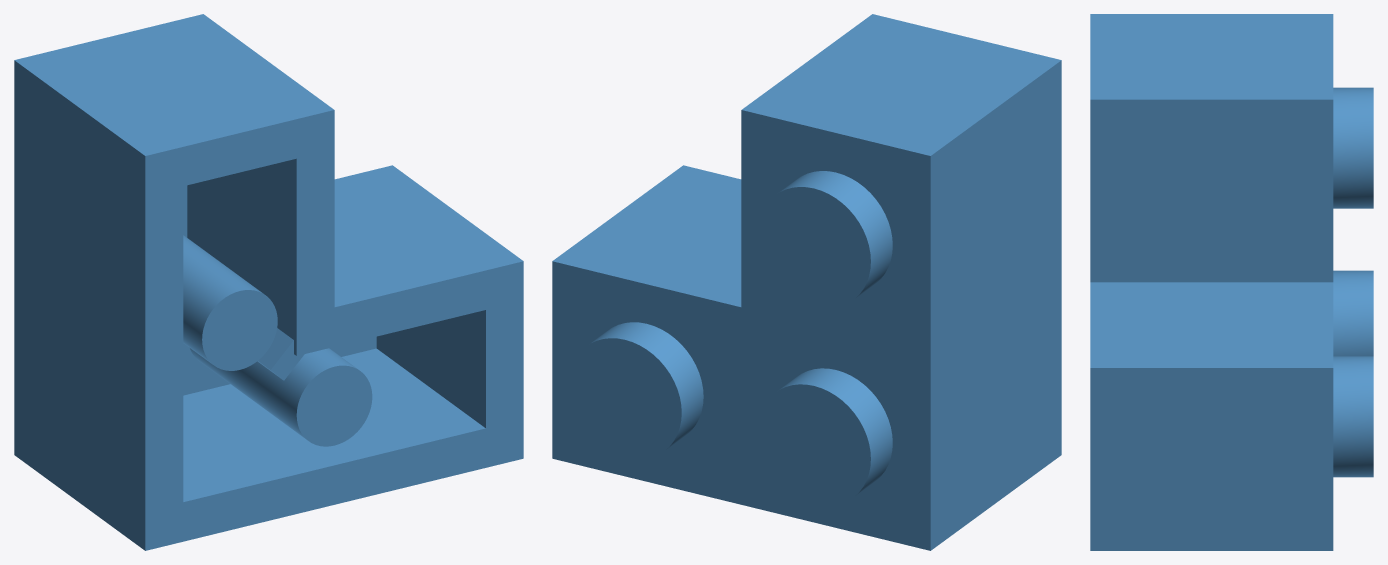
Rendered from L pequeña.dae.
3 views of the same model, side by side, from view 1: azimuth 30°, elevation 25°; view 2: azimuth 150°, elevation 25°; view 3: azimuth 270°, elevation 25° (orthographic). The views are drawn at different scales.
Visible parts, largest first — view 1: Inner-Node-UntitledModel_dot_io-0; view 2: Inner-Node-UntitledModel_dot_io-0; view 3: Inner-Node-UntitledModel_dot_io-0.
Boxes of the visible parts, <box> form: Inner-Node-UntitledModel_dot_io-0: <box>14,14,523,550</box>; Inner-Node-UntitledModel_dot_io-0: <box>552,14,1061,550</box>; Inner-Node-UntitledModel_dot_io-0: <box>1090,14,1373,550</box>.
Size of the model in its own units: 39.75 by 39.64 by 27.82.
